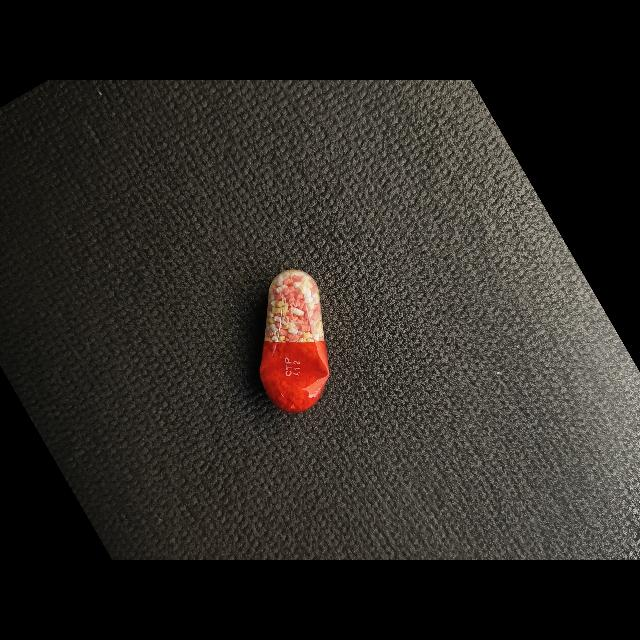Defective Capsule: (259, 270, 330, 413)
